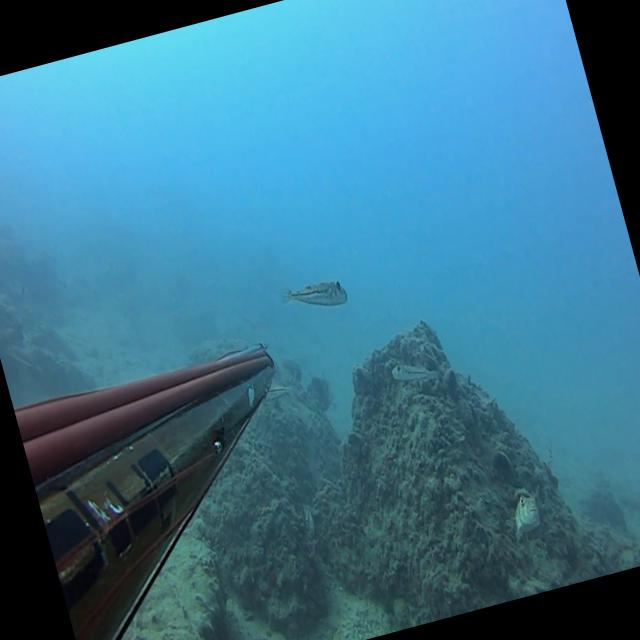Balon Baligi: (276, 268, 348, 317), (389, 352, 442, 390), (505, 492, 544, 542), (3, 336, 42, 376), (262, 380, 292, 400)
